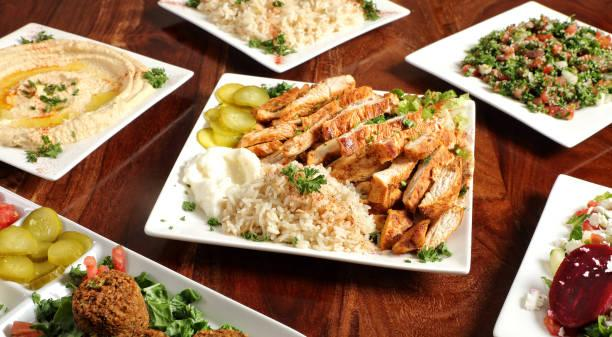Braised Crucian Carp: (145, 73, 470, 272), (2, 21, 195, 181), (401, 0, 608, 148)
